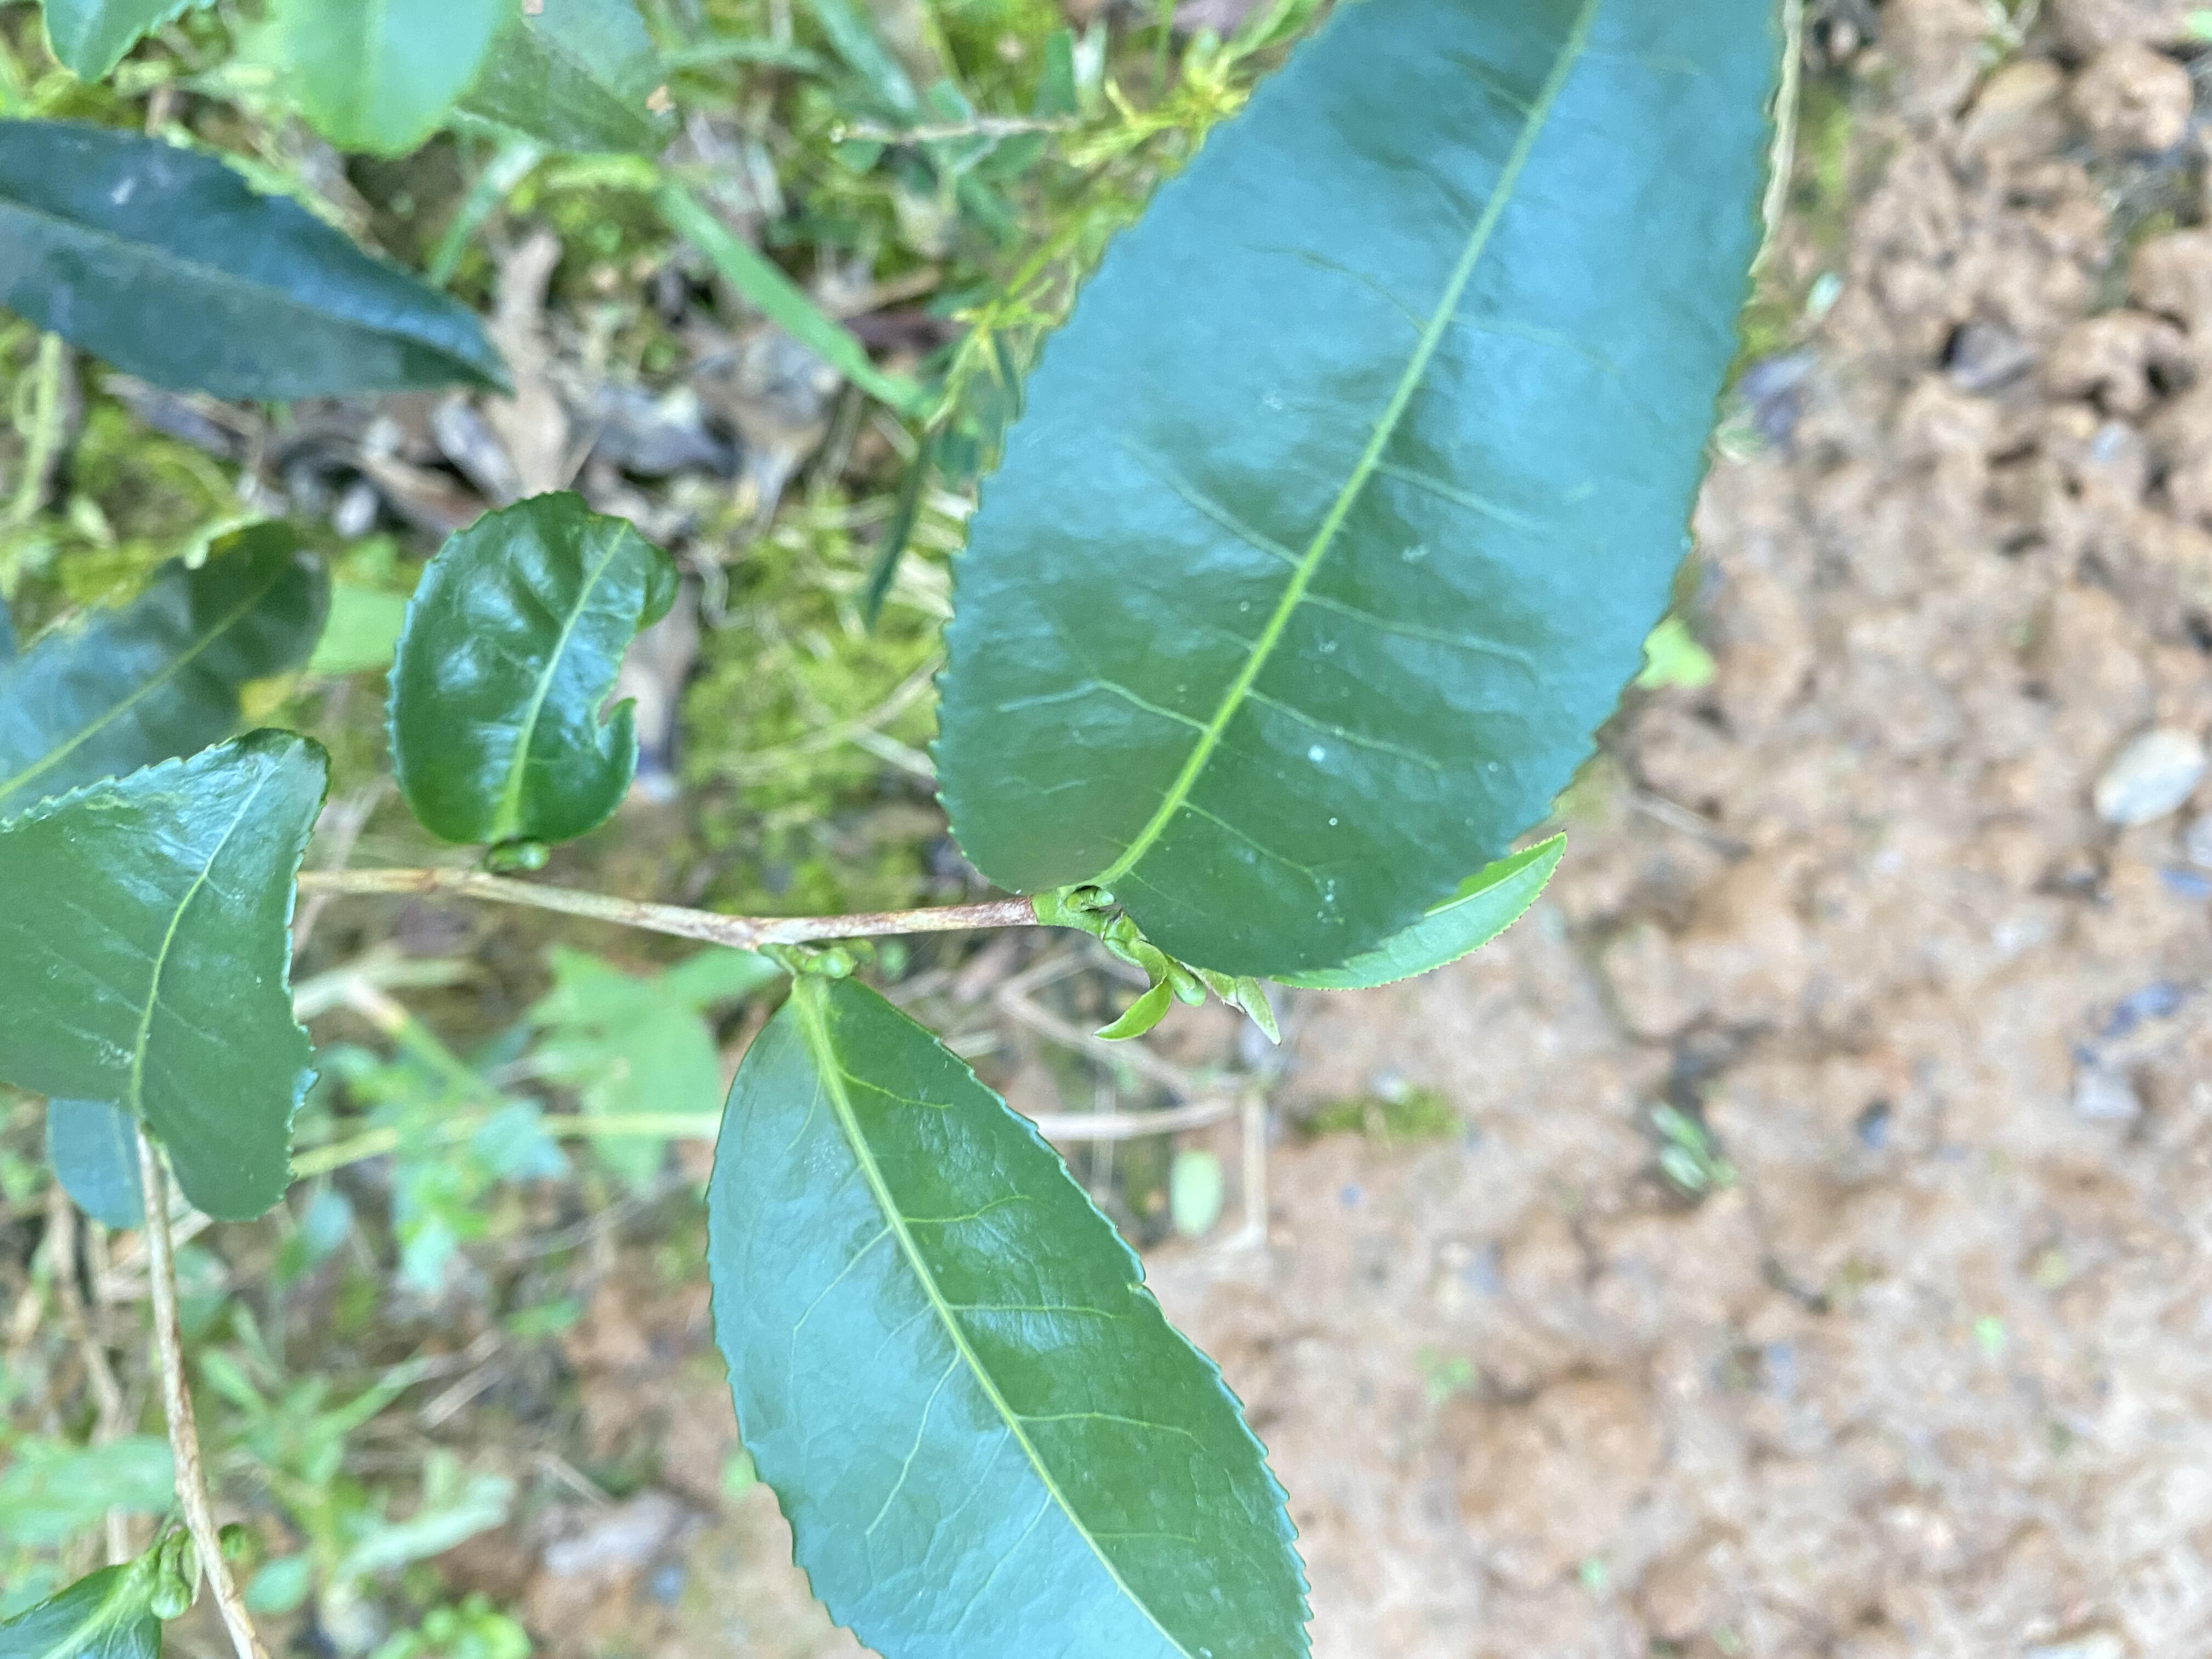chihuo_low: (383, 488, 681, 857)
healthy: (700, 972, 1318, 1657), (0, 728, 334, 1222)
